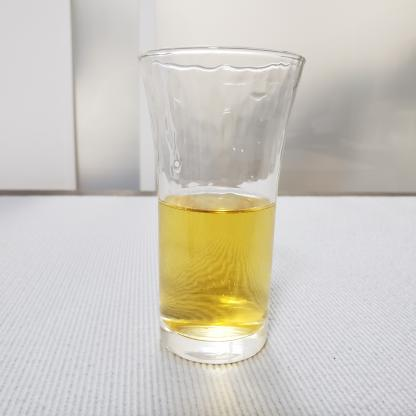glass: (128, 41, 321, 383)
